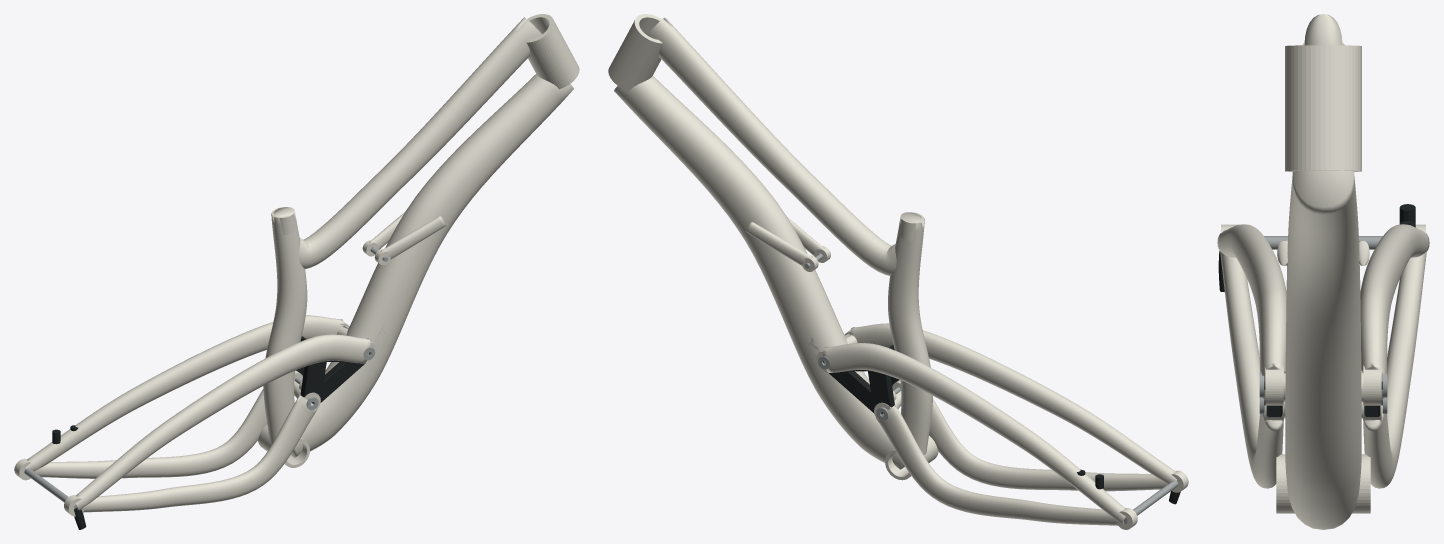
Rendered from yt-tues-mk4-carbon--l.glb.
3 renders of one model, left to right at view 1: azimuth 30°, elevation 25°; view 2: azimuth 150°, elevation 25°; view 3: azimuth 270°, elevation 25°, orthographic. The views are drawn at different scales.
Visible parts, largest first — view 1: yt-tues-mk4-carbon__paint_0, yt-tues-mk4-carbon__detail_1, yt-tues-mk4-carbon__detail_2; view 2: yt-tues-mk4-carbon__paint_0, yt-tues-mk4-carbon__detail_1, yt-tues-mk4-carbon__detail_2; view 3: yt-tues-mk4-carbon__paint_0, yt-tues-mk4-carbon__detail_1, yt-tues-mk4-carbon__detail_2.
Part boxes in pixels (x1=…): yt-tues-mk4-carbon__paint_0: x1=14, y1=14, x2=579, y2=516; yt-tues-mk4-carbon__detail_1: x1=52, y1=336, x2=370, y2=529; yt-tues-mk4-carbon__detail_2: x1=24, y1=247, x2=388, y2=508; yt-tues-mk4-carbon__paint_0: x1=608, y1=14, x2=1188, y2=529; yt-tues-mk4-carbon__detail_1: x1=823, y1=344, x2=1180, y2=504; yt-tues-mk4-carbon__detail_2: x1=804, y1=254, x2=1178, y2=524; yt-tues-mk4-carbon__paint_0: x1=1217, y1=14, x2=1429, y2=529; yt-tues-mk4-carbon__detail_1: x1=1218, y1=204, x2=1415, y2=416; yt-tues-mk4-carbon__detail_2: x1=1259, y1=236, x2=1387, y2=413.
Size of the model in its own units: 1.02 by 0.7169 by 0.1863.
5 materials, 2 textured.
